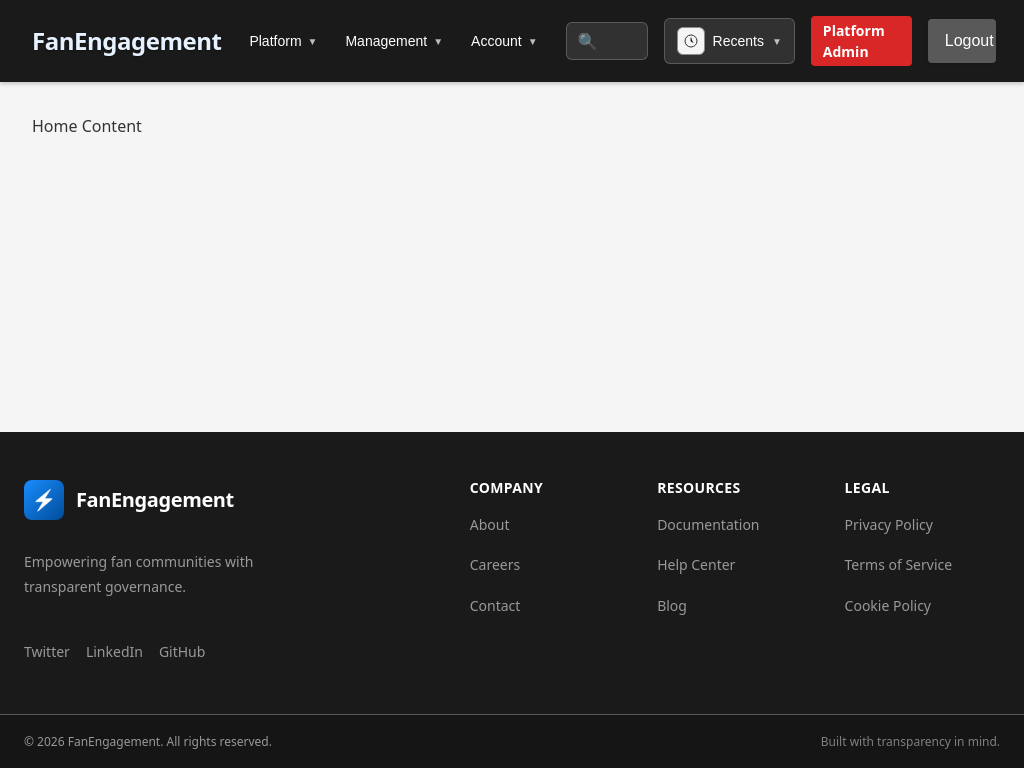
Scenario: Layout › Navigation visibility for PlatformAdmin (GlobalAdmin) users › shows Platform Overview link for PlatformAdmin
The width and height of the screenshot is (1024, 768).
Expected: the text "Platform Admin" is shown, [811,16,912,66]
Expected: the navigation bar with test id "horizontal-nav" is shown, [237,21,550,61]
# Open Account dropdown to find My Account and My Organizations
Click the button with test id "nav-dropdown-account" at point(504, 41), box [459,21,550,61]
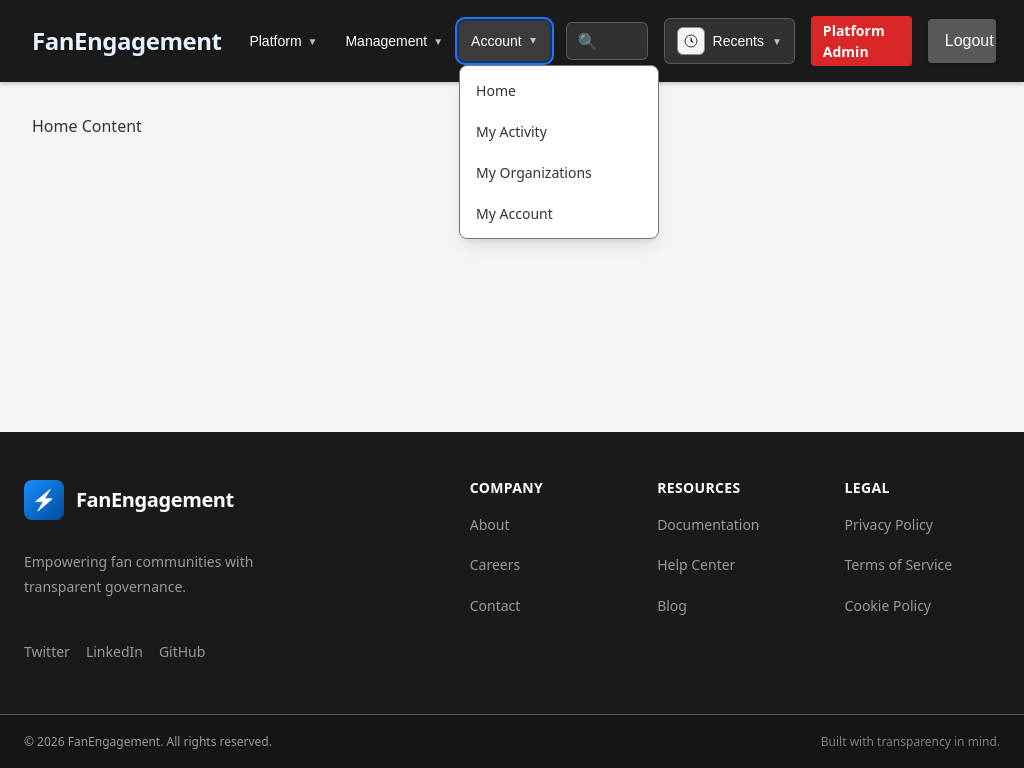
Expected: the menu item with test id "nav-myOrganizations" is shown, [476,163,592,182]
Expected: the menu item with test id "nav-platformMyAccount" is shown, [476,204,553,223]
# Open Platform dropdown to find Platform Overview
Click the button with test id "nav-dropdown-platform" at point(283, 41), box [237,21,329,61]
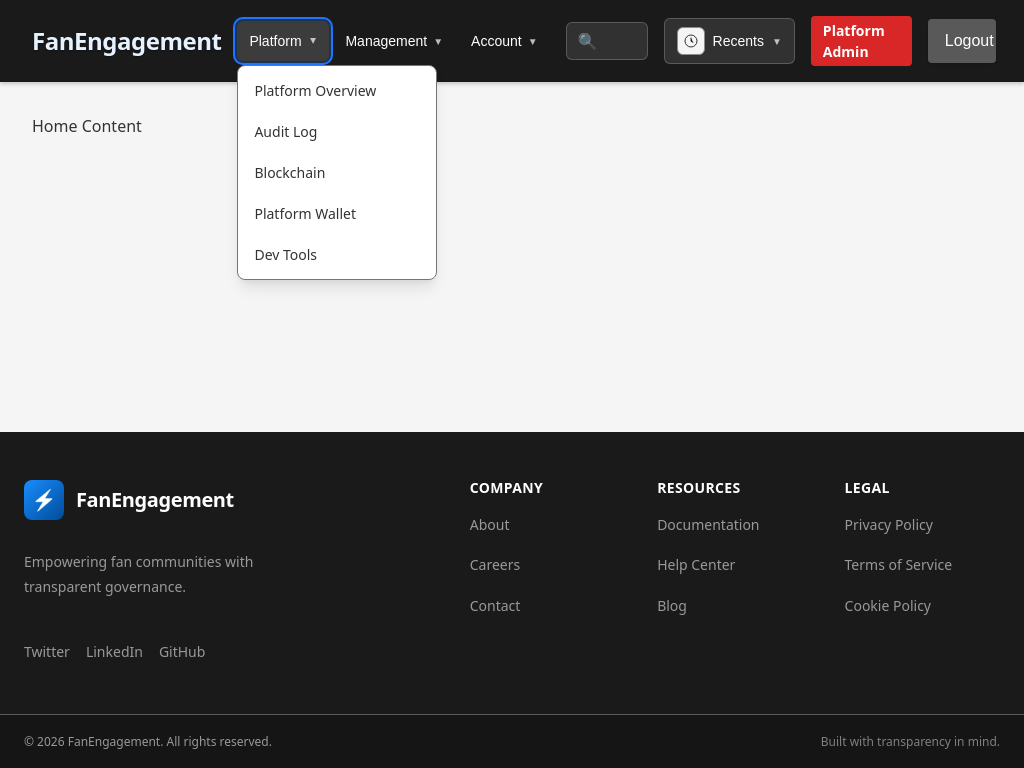
Expected: the menu item with test id "nav-platformDashboard" is shown, [254,81,376,100]
